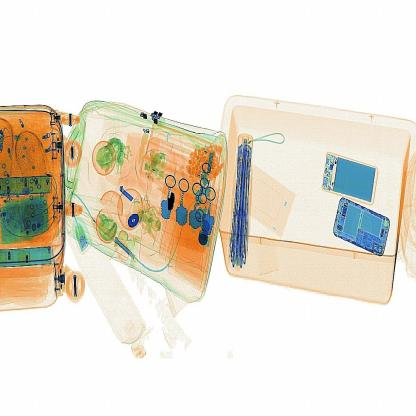knife: (161, 176, 184, 218)
